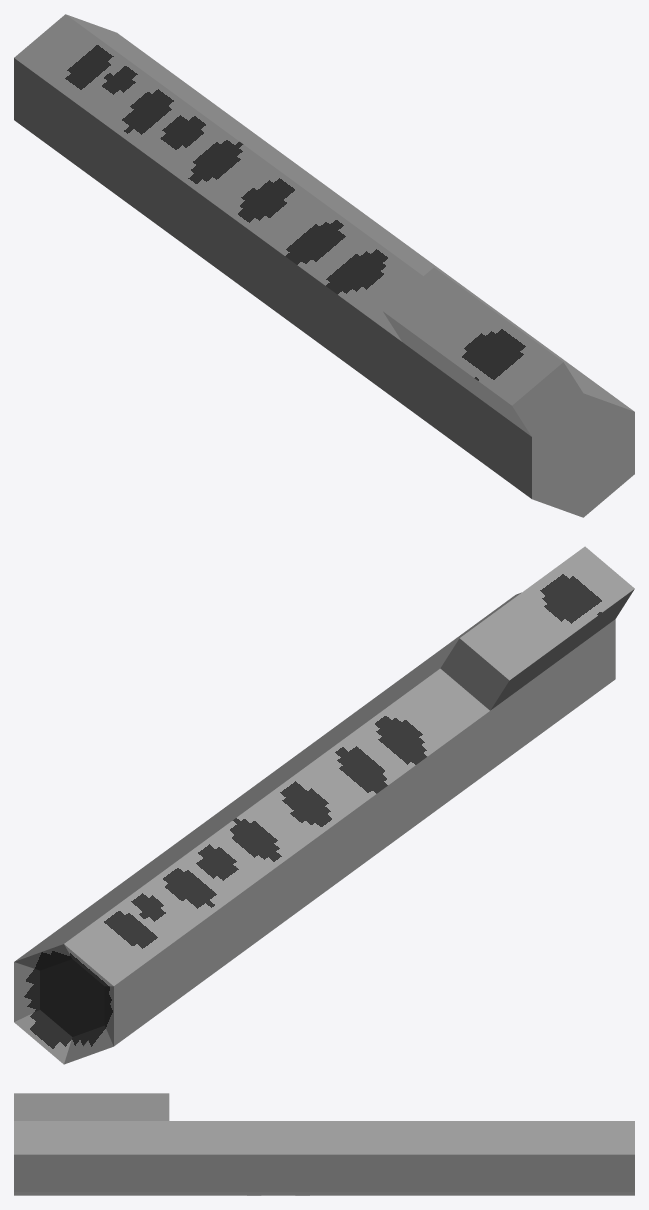
Rendered from Flute.glb.
3 renders of one model, top to bottom at view 1: azimuth 30°, elevation 25°; view 2: azimuth 150°, elevation 25°; view 3: azimuth 270°, elevation 25°, orthographic. The views are drawn at different scales.
Parts seen in each view (by area): view 1: Cylinder; view 2: Cylinder; view 3: Cylinder.
Boxes of the visible parts, x1,y1,x2,y2 form: Cylinder: [14, 14, 634, 517]; Cylinder: [14, 546, 634, 1064]; Cylinder: [14, 1093, 634, 1195].
Size of the model in its own units: 0.1314 by 0.164 by 0.9586.
Materials: 1 (1 with a texture image).
